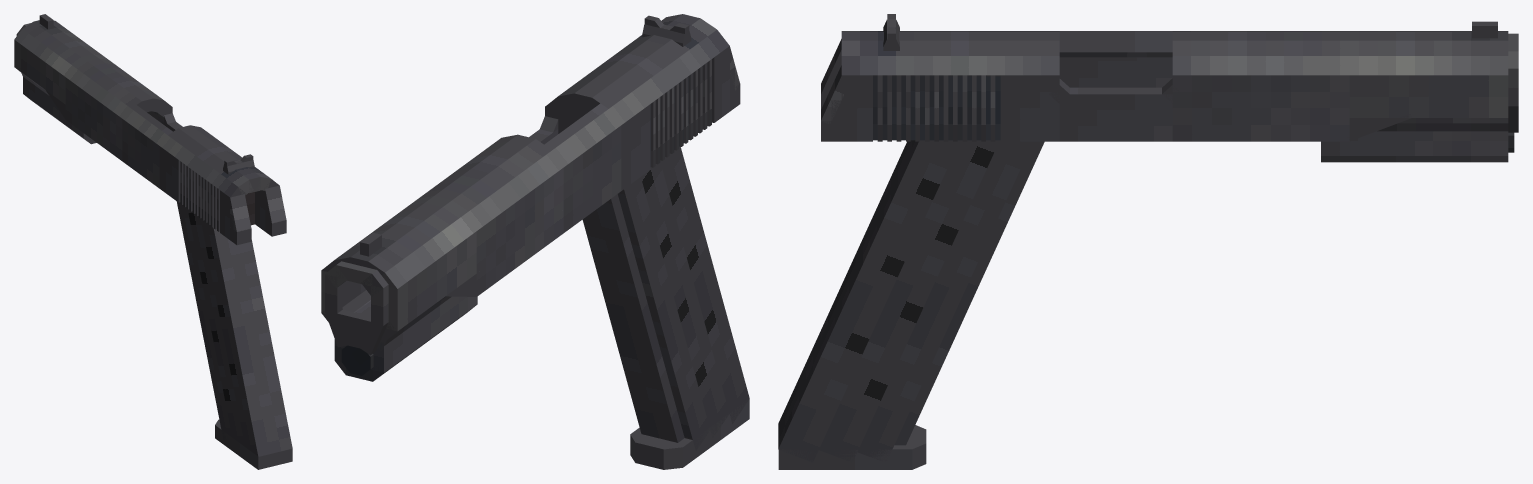
File: m1911_static.gltf
The picture shows the model from 3 angles, left to right: view 1: azimuth 30°, elevation 25°; view 2: azimuth 150°, elevation 25°; view 3: azimuth 270°, elevation 25°; orthographic projection. The views are drawn at different scales.
Parts seen in each view (by area): view 1: cube (×16), hexadecagon (×8); view 2: cube (×18), hexadecagon (×8); view 3: cube (×15), hexadecagon (×8).
Part boxes in pixels (x1,y1,x2,y2): cube (×16): (14, 40, 292, 469); hexadecagon (×8): (14, 20, 271, 197); cube (×18): (321, 46, 749, 469); hexadecagon (×8): (334, 14, 729, 292); cube (×15): (778, 57, 1508, 469); hexadecagon (×8): (841, 31, 1508, 131).
Size of the model in its own units: 0.147 by 0.7935 by 1.23.
Materials: 2 (2 with a texture image).
